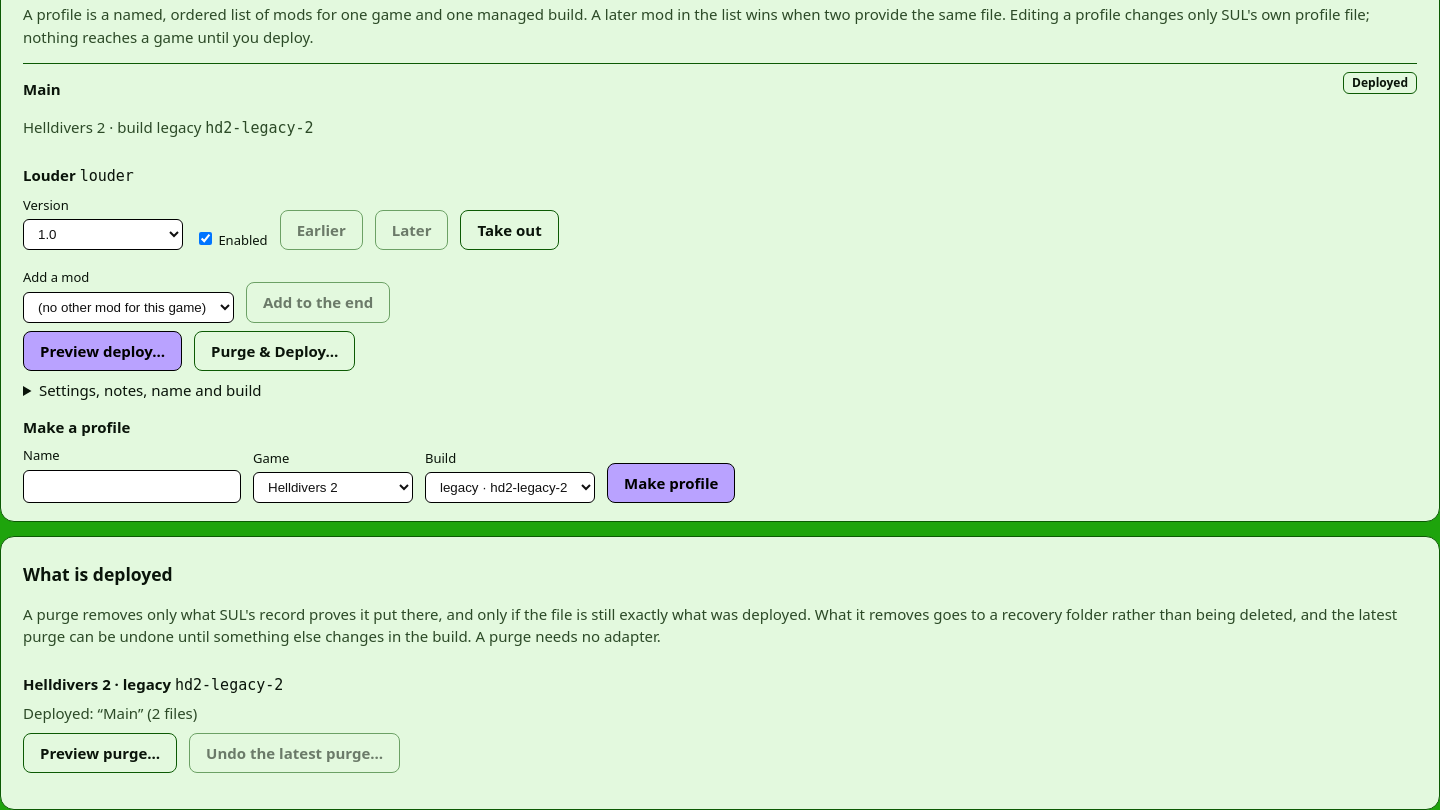
Test case: deploy, purge and undo ask before they change anything › a purge that would leave a changed file says the build would stay partly modded, and what is left is reported afterwards
Later steps or results of the test are not shown.
(page scrolled)
Click the button with aria-label "Preview a purge of hd2-legacy-2" at (100, 753), box [23,733,177,773]
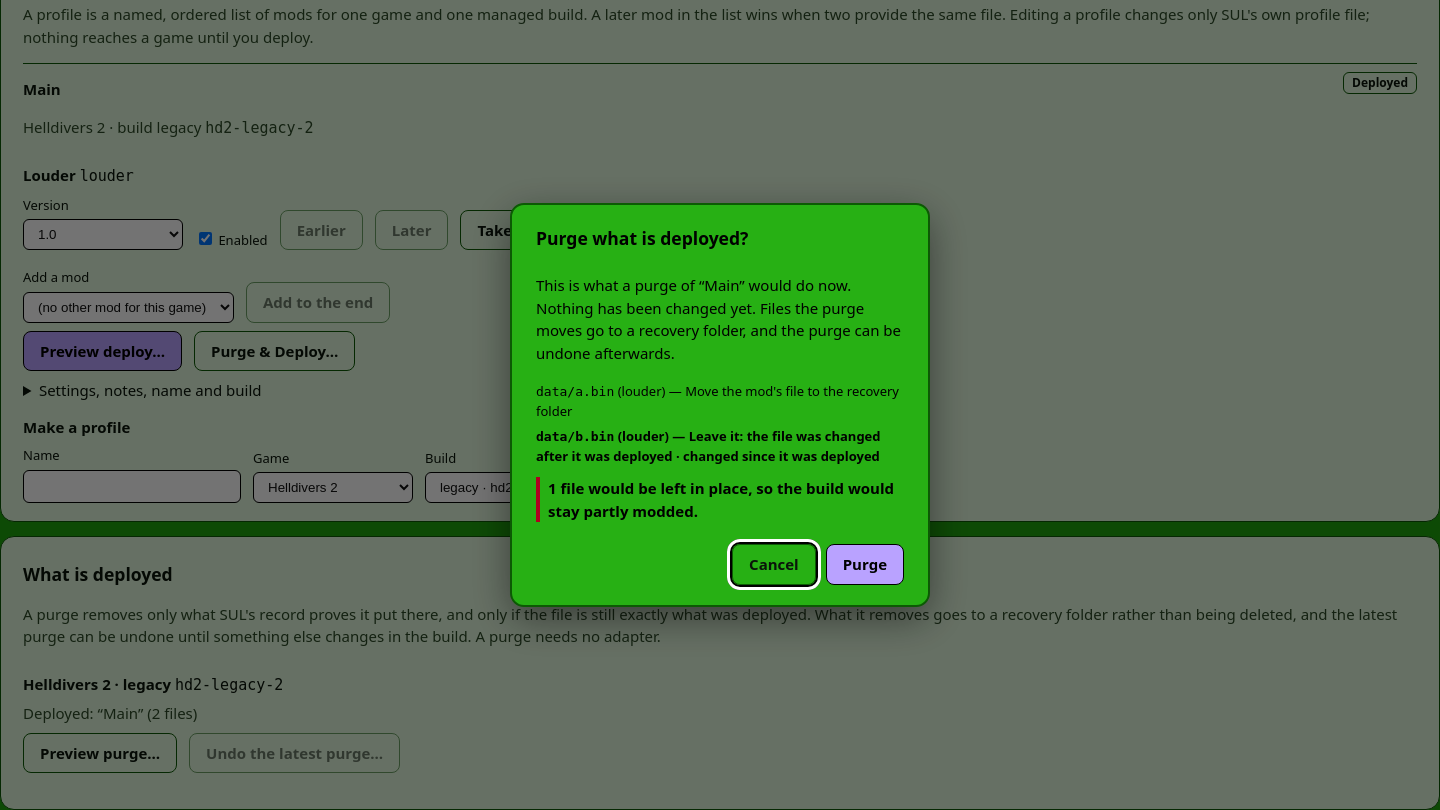
Expected: the dialog shows "1 file would be left in place, so the build would stay partly modded", [510,203,930,607]
